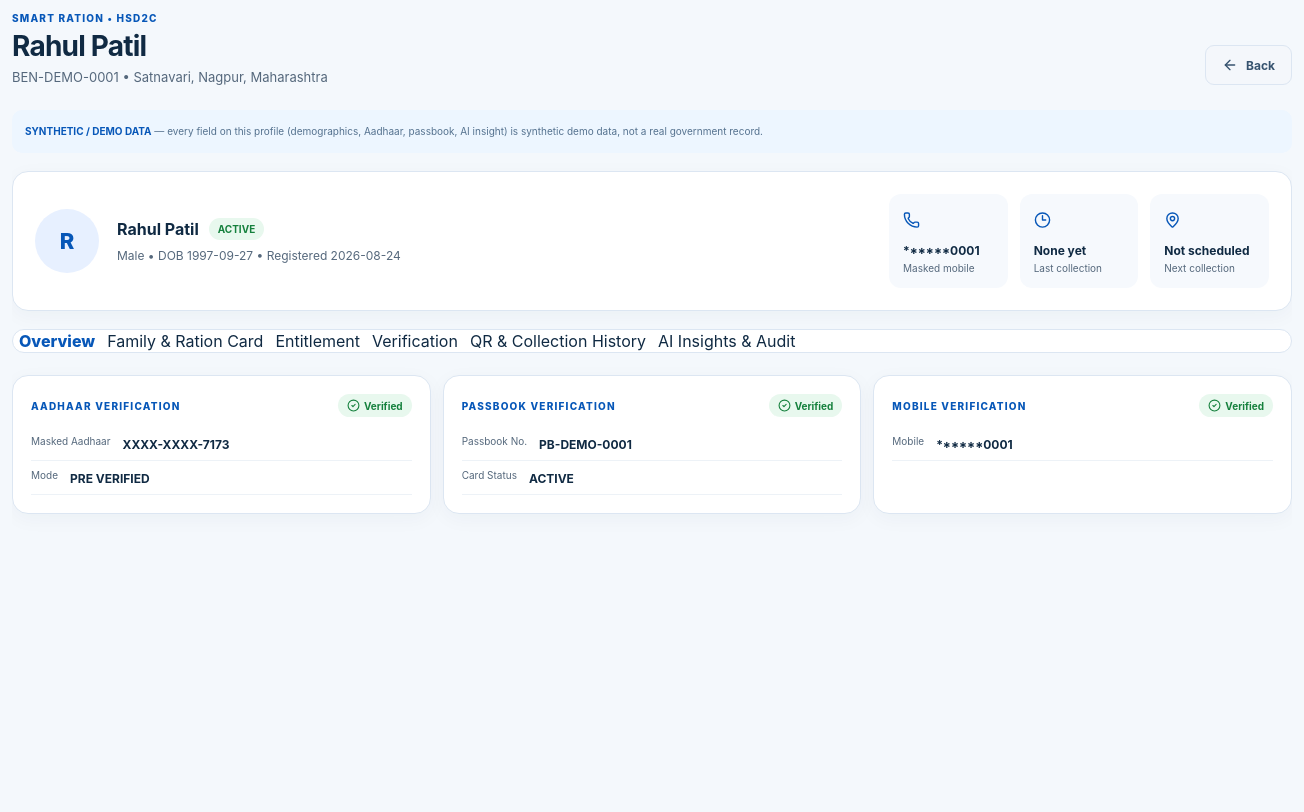
Test case: Beneficiary profile › still shows them to staff
Click the button "AI Insights & Audit".
click(727, 341)  # box [652,330,801,352]
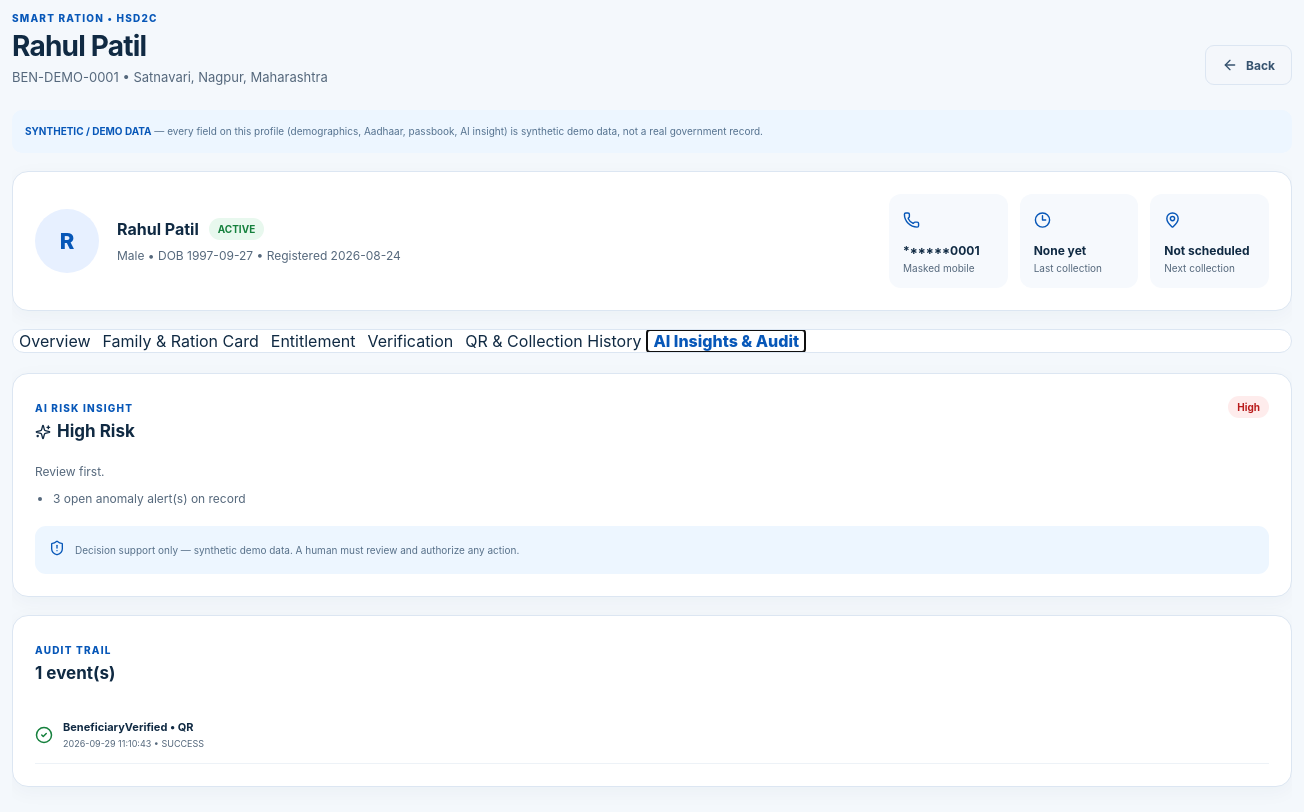
Expected: the heading "High Risk" is shown, [35,421,135,441]
Expected: the list item "3 open anomaly alert(s) on record" is shown, [53,491,246,506]
